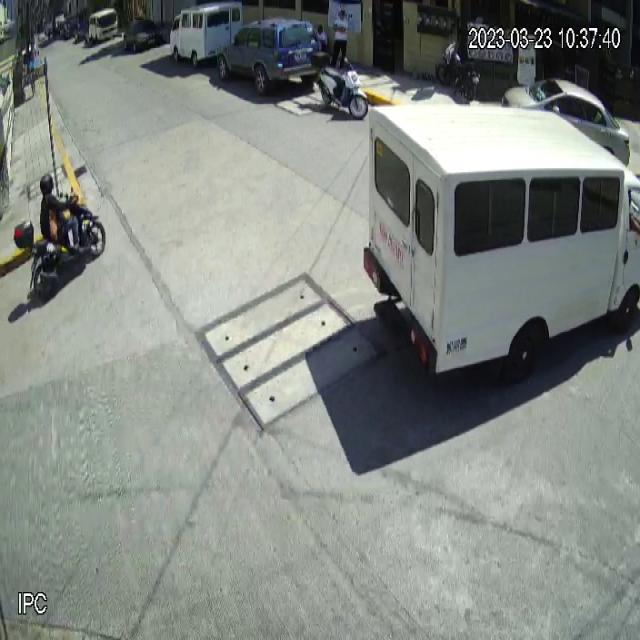Car: (217, 17, 323, 89)
Motorcycle: (13, 185, 106, 302), (310, 48, 368, 122)
Van: (363, 101, 640, 395), (170, 1, 242, 67)
